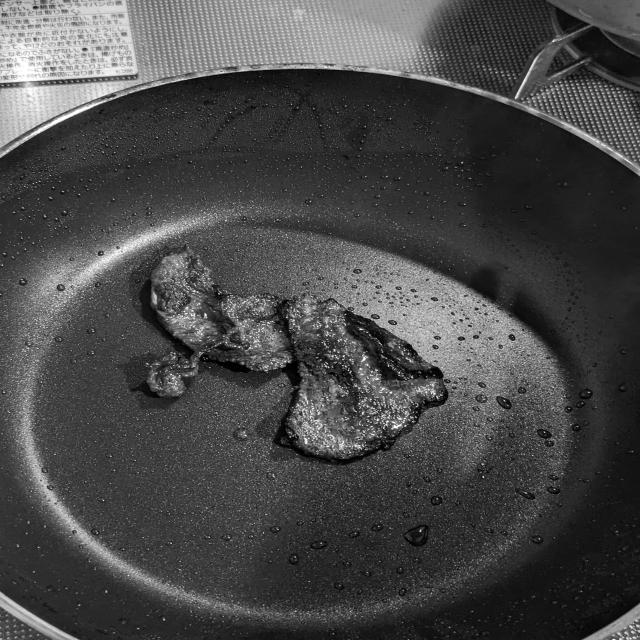overcooked beef,: (257, 291, 459, 466), (136, 238, 293, 409)
